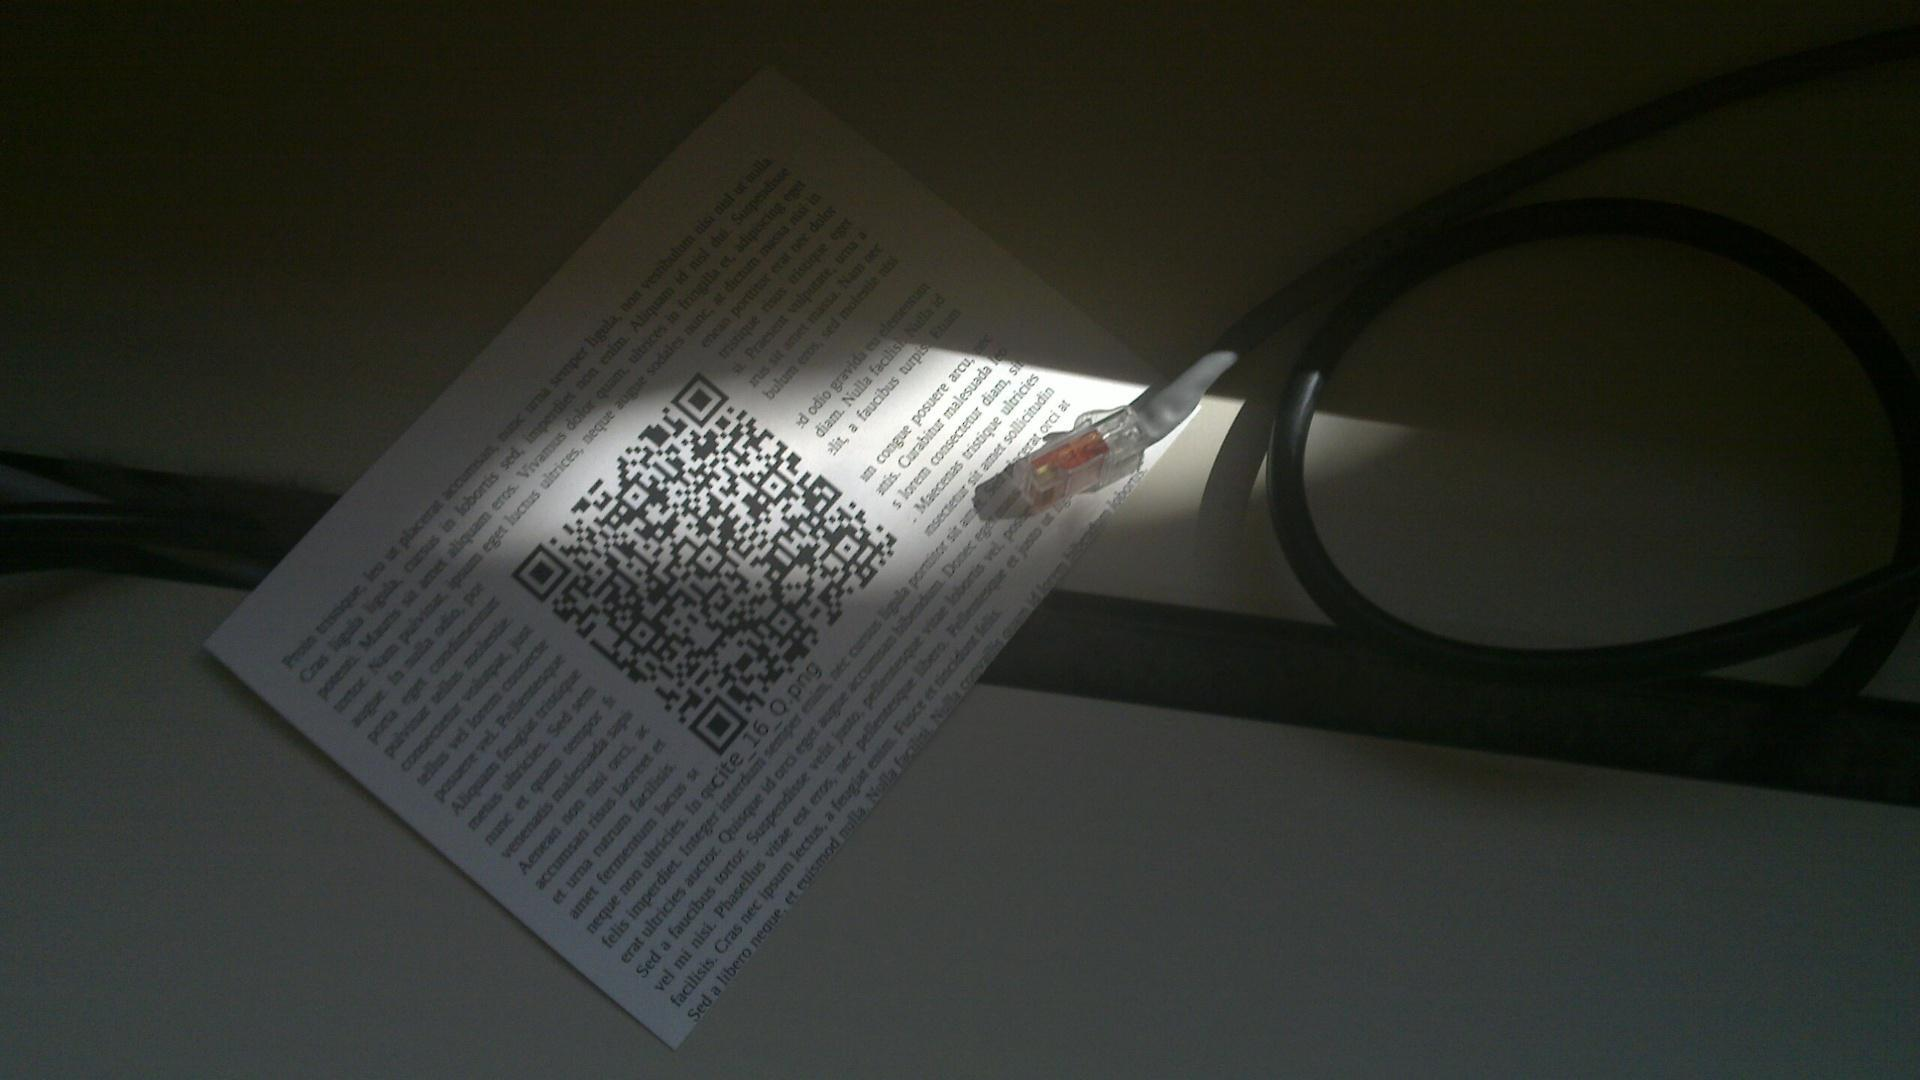Finder pattern: (508, 541, 572, 608), (662, 373, 729, 429), (687, 694, 746, 754)
